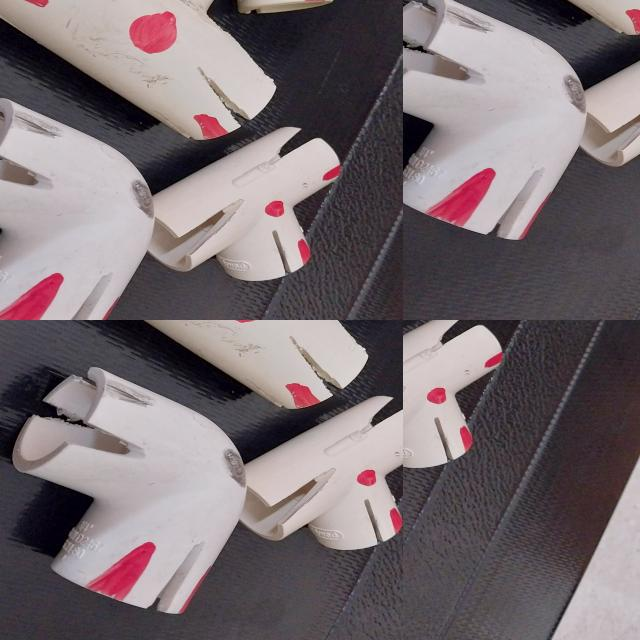Defective: (434, 417, 458, 462), (481, 354, 505, 370), (427, 388, 447, 405), (458, 427, 472, 449)
T Joint: (403, 320, 510, 462)
